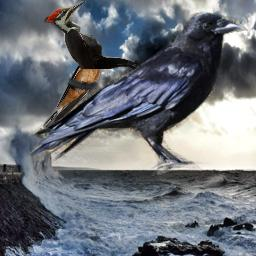Crow: (27, 7, 248, 177)
Swallow: (40, 45, 104, 128)
Woodpecker: (40, 1, 140, 69)
